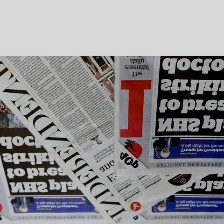news_paper: (0, 54, 224, 223), (111, 53, 224, 178)
